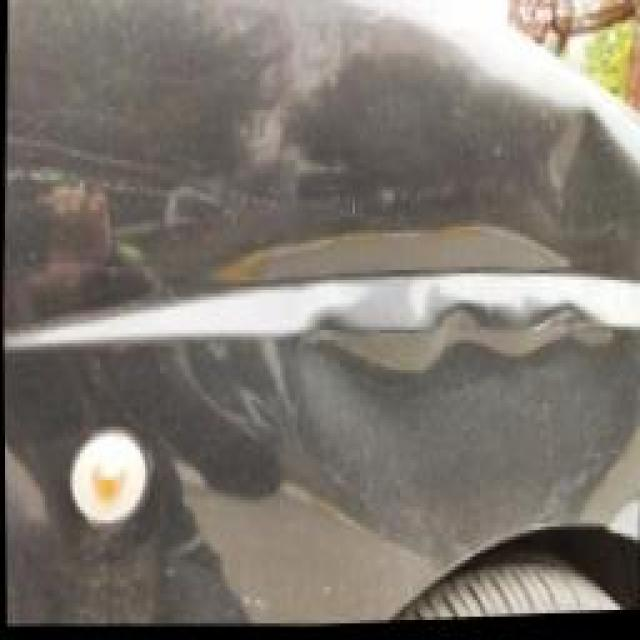Fender: (2, 140, 640, 480)
